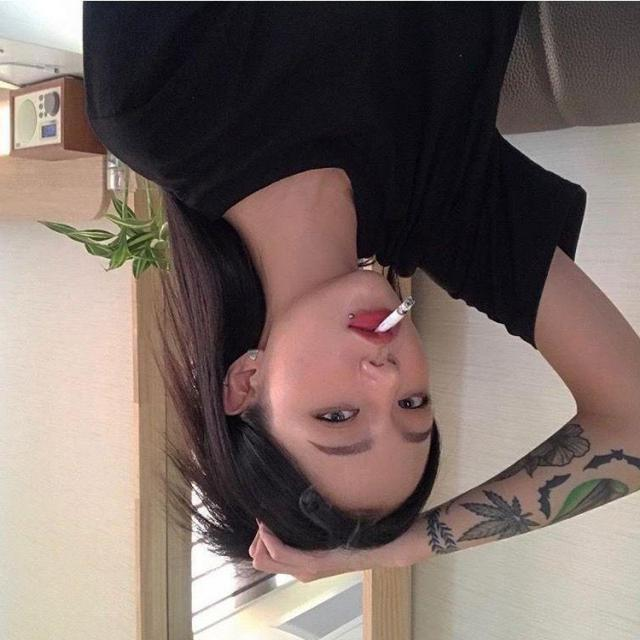cigarette: (361, 295, 432, 348)
